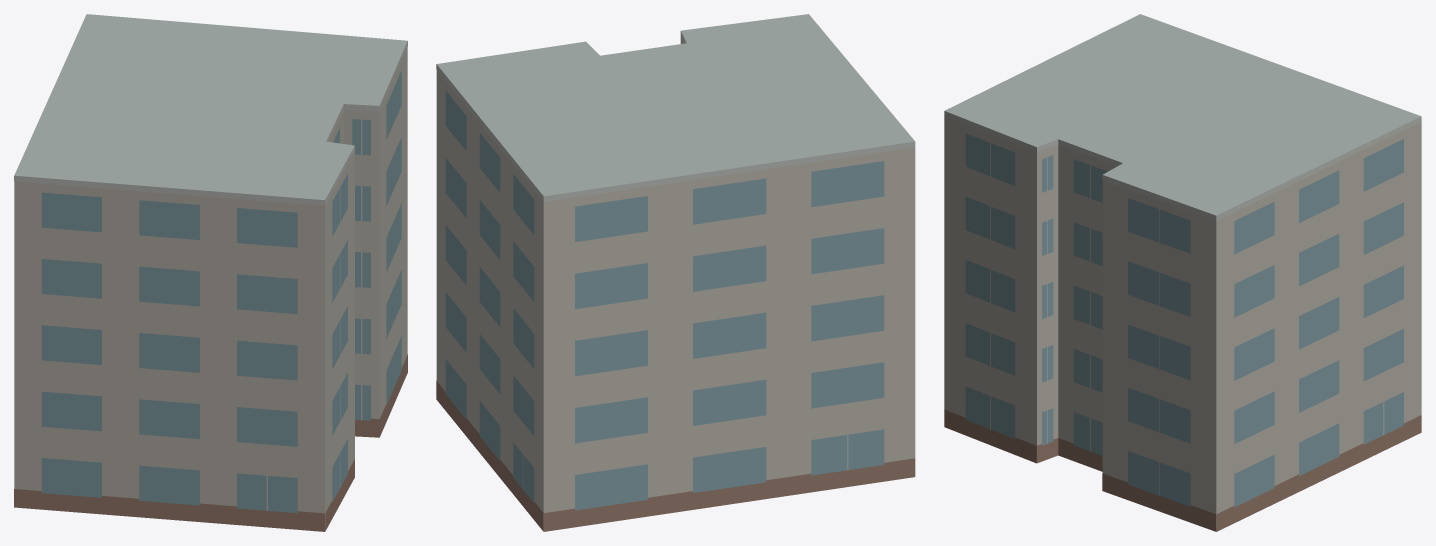
Rendered from survey-upis-32523864.glb.
The picture shows the model from 3 angles, left to right: view 1: azimuth 30°, elevation 25°; view 2: azimuth 150°, elevation 25°; view 3: azimuth 270°, elevation 25°; orthographic projection. The views are drawn at different scales.
Parts seen in each view (by area): view 1: survey-upis-32523864.tmp; view 2: survey-upis-32523864.tmp; view 3: survey-upis-32523864.tmp.
Boxes of the visible parts, x1=… form: survey-upis-32523864.tmp: x1=14, y1=14, x2=407, y2=531; survey-upis-32523864.tmp: x1=436, y1=14, x2=915, y2=531; survey-upis-32523864.tmp: x1=944, y1=14, x2=1421, y2=531.
Size of the model in its own units: 19.57 by 14.3 by 19.57.
